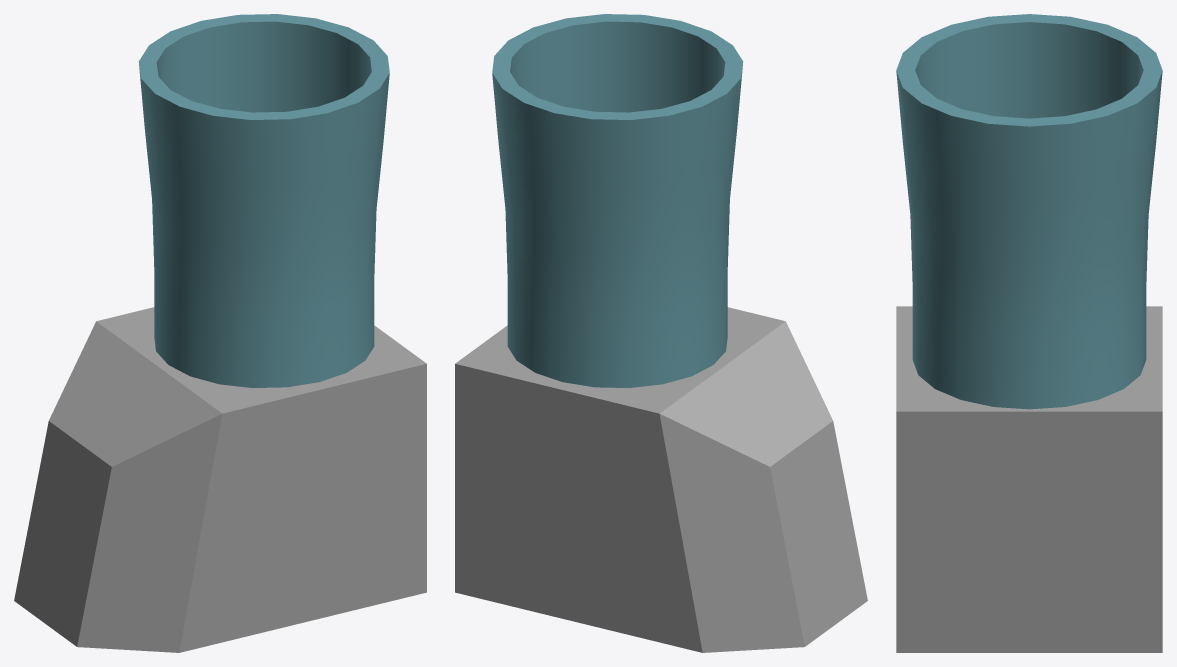
Rendered from blender.fbx.
3 views of the same model, side by side, from view 1: azimuth 30°, elevation 25°; view 2: azimuth 150°, elevation 25°; view 3: azimuth 270°, elevation 25° (orthographic). The views are drawn at different scales.
Visible parts, largest first — view 1: polySurface2; view 2: polySurface2; view 3: polySurface2.
Boxes of the visible parts, x1,y1,x2,y2 form: polySurface2: (14, 14, 426, 652); polySurface2: (455, 14, 867, 652); polySurface2: (896, 14, 1162, 652).
Bounding box in the file's own units: 7.5 × 11.01 × 5.
